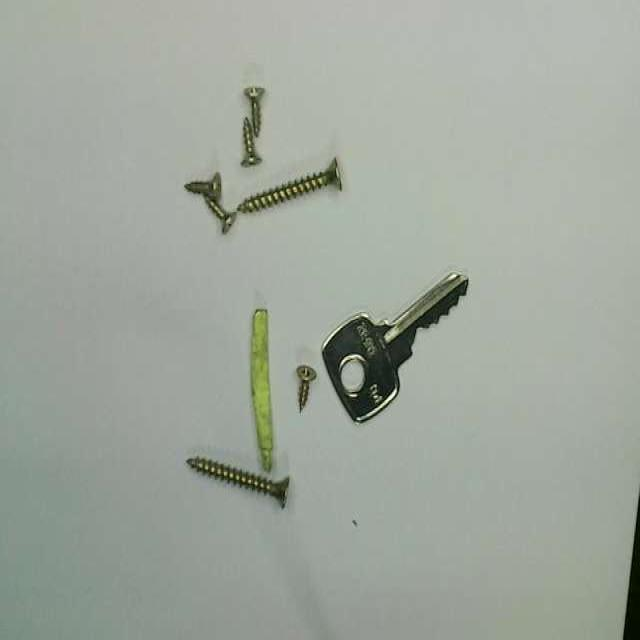Parafuso: (237, 158, 341, 213), (187, 458, 288, 507), (205, 198, 236, 234), (184, 172, 221, 201), (244, 86, 264, 137), (241, 118, 261, 166), (296, 366, 315, 410)
